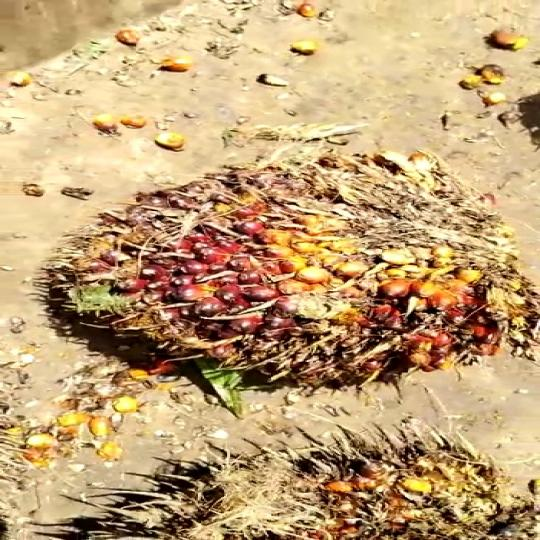masak: (59, 147, 540, 401)
